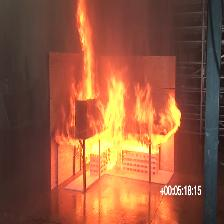fire: (54, 75, 182, 170), (70, 0, 99, 100)
